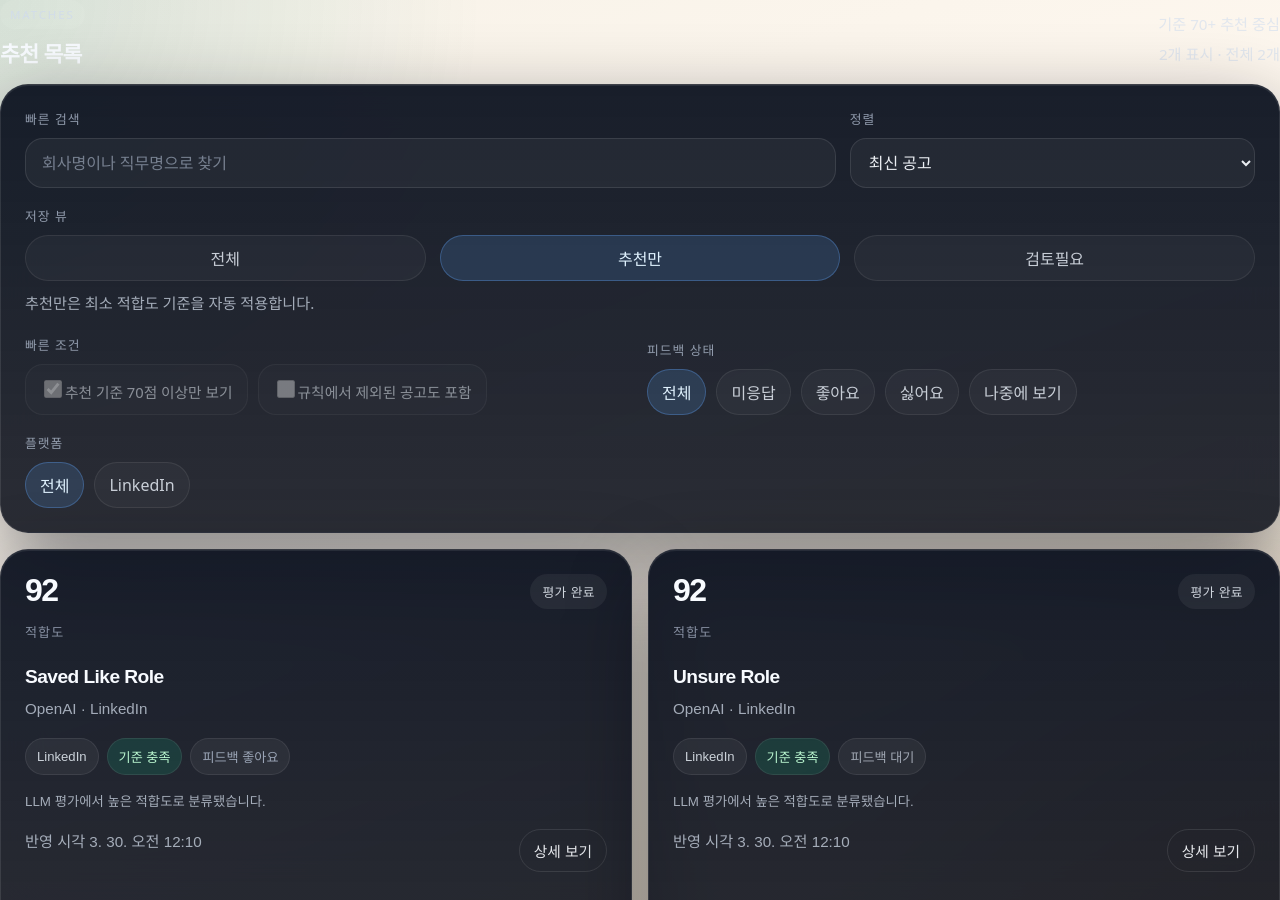
it: RecommendationBoard › updates the current filtered list immediately after saving feedback
Click the button "미응답" at (754, 392), box [716,369,791,415]
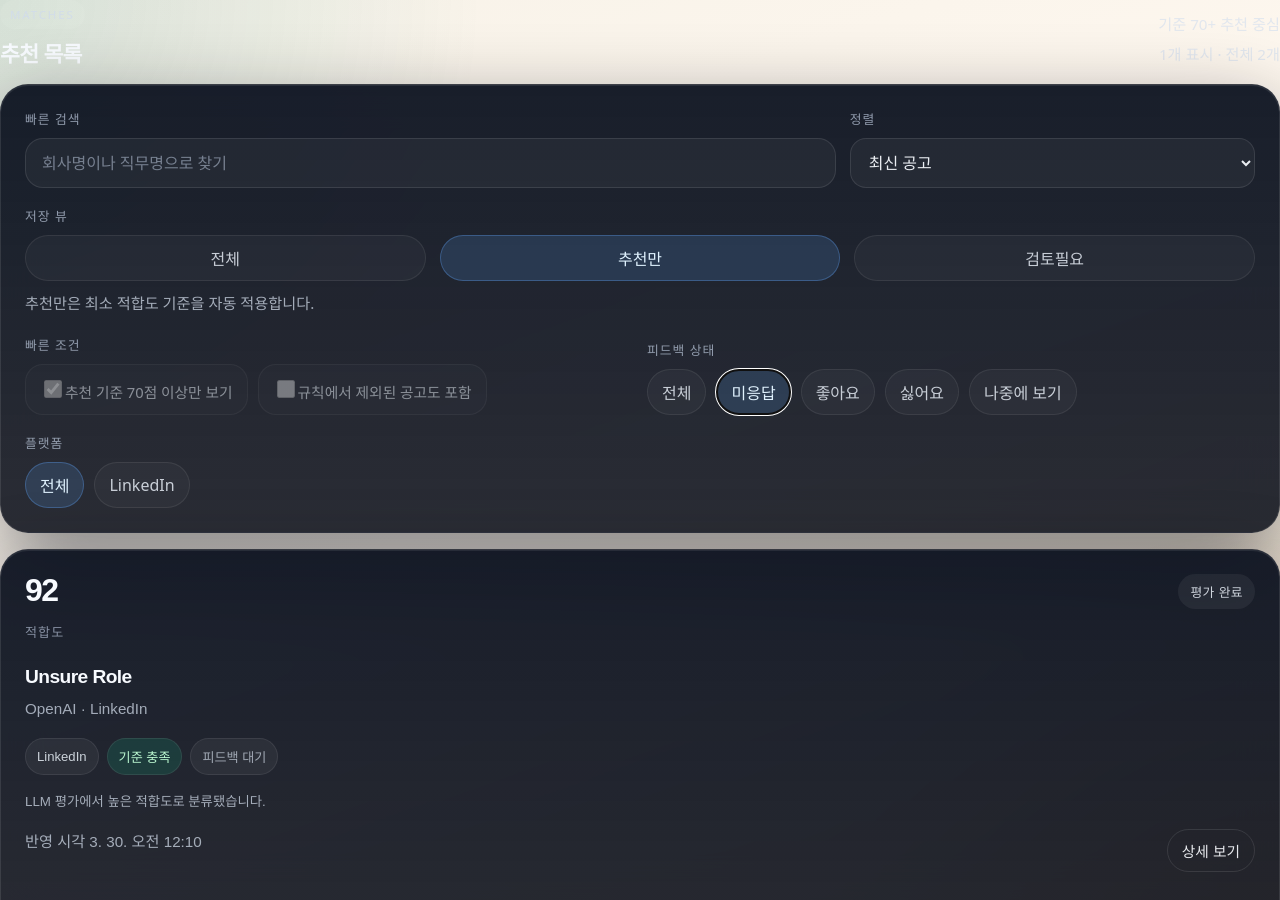
Expected: the heading "Unsure Role" is shown, [25,666,132,687]
Click the button with aria-label "Unsure Role 상세 보기" at (640, 723), box [25,574,1255,872]
(page scrolled)
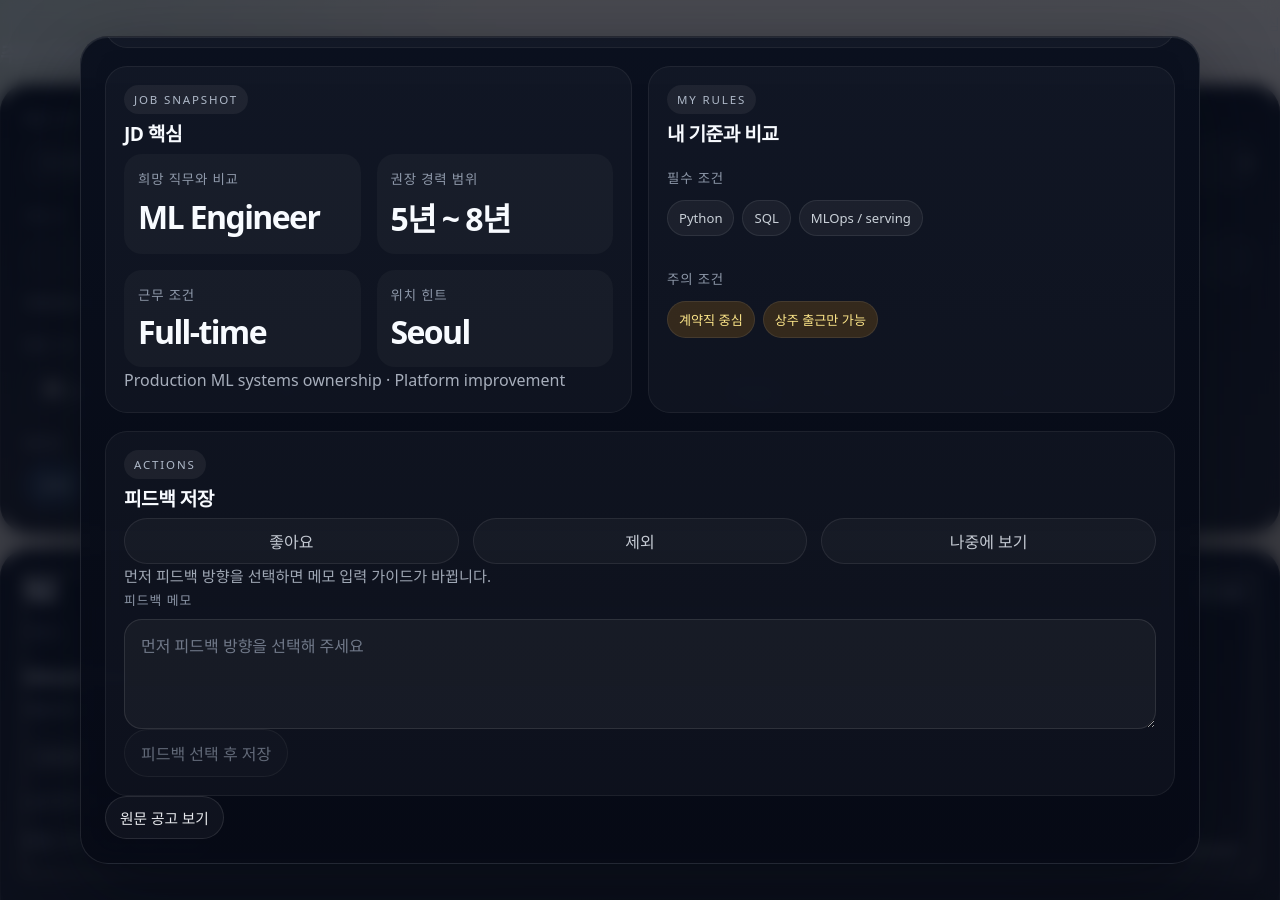
Click the button "나중에 보기" at (989, 541), box [821,518,1156,564]
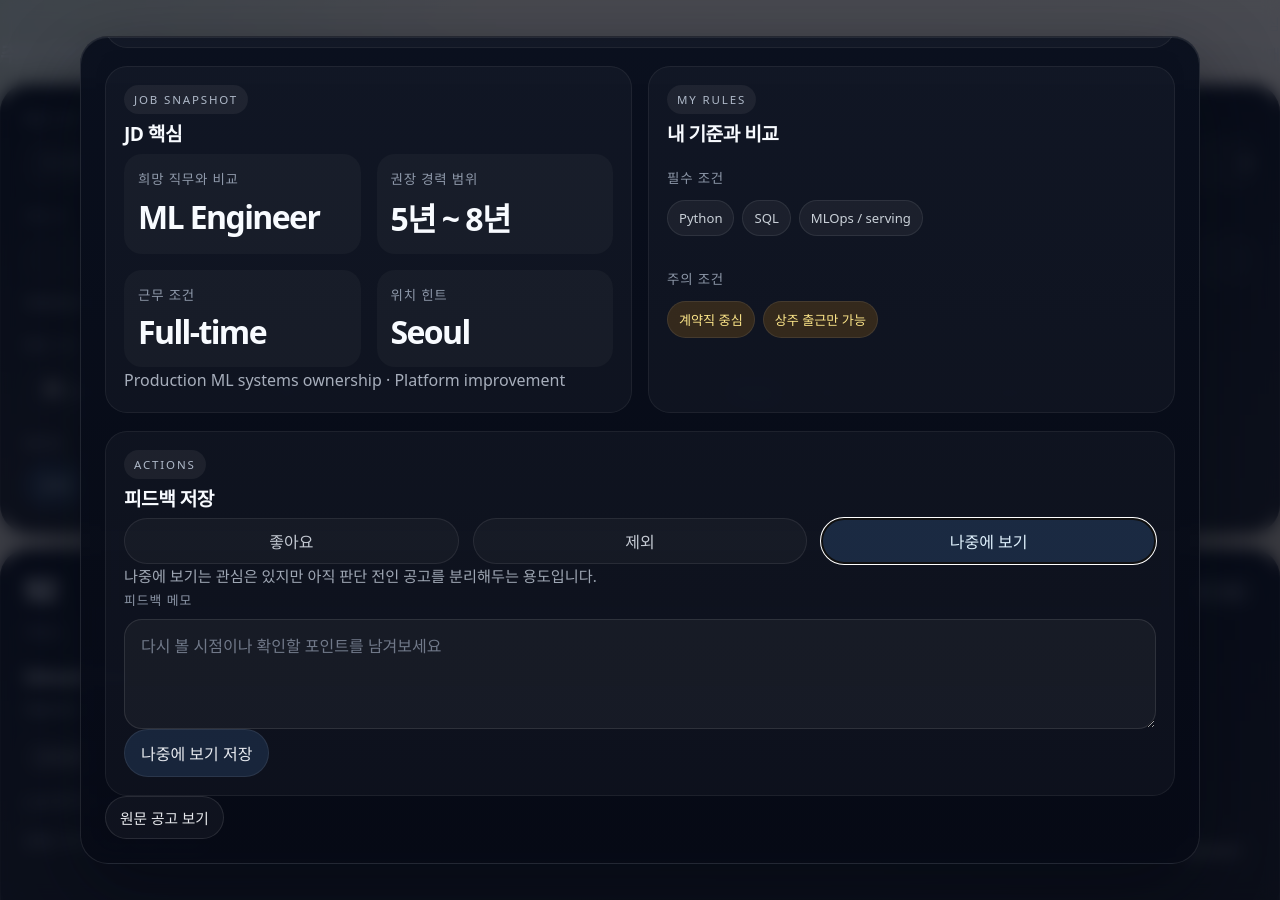
Type "follow up later" into the text box labelled "피드백 메모" at (640, 674), box [124,619,1156,729]
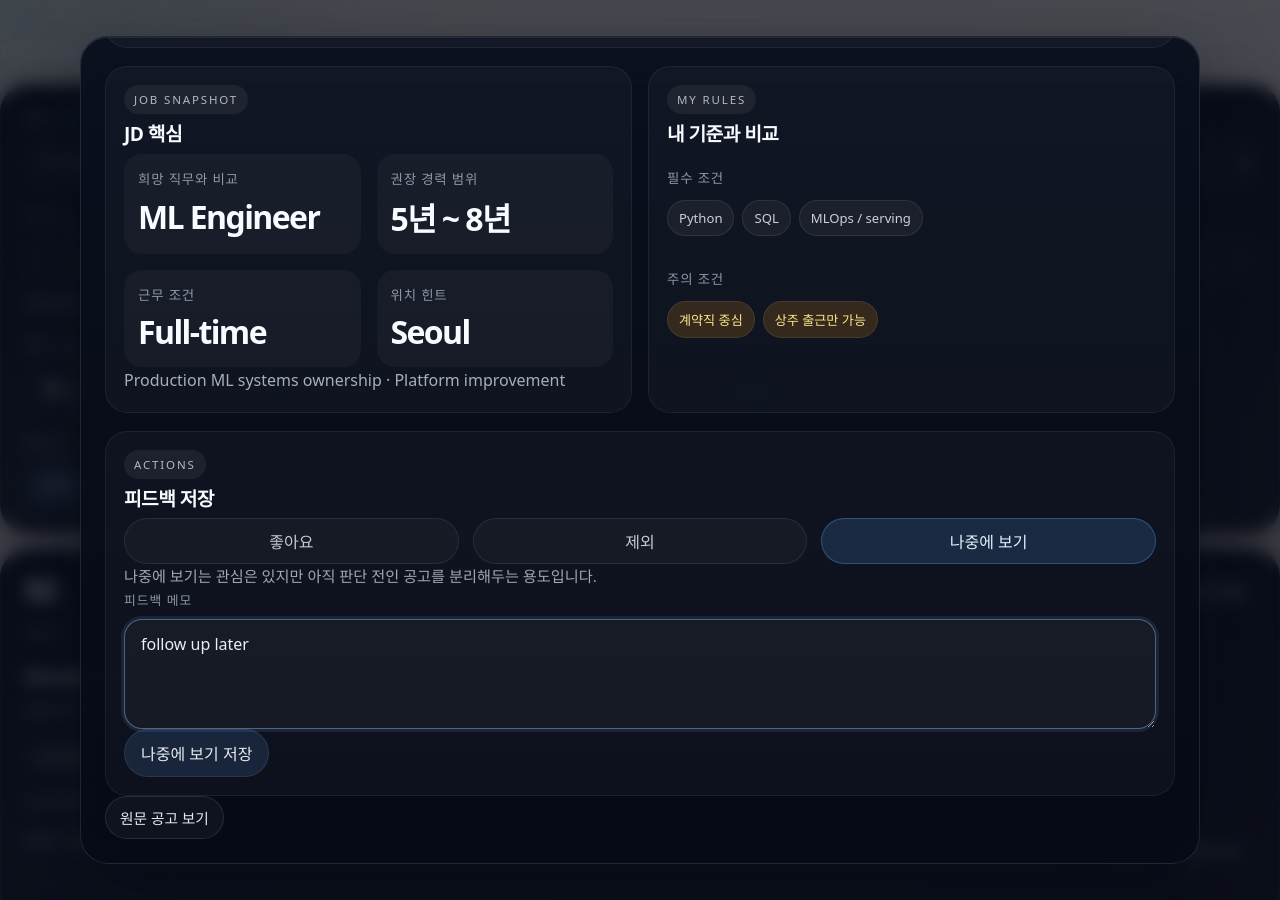
Click the button "나중에 보기 저장" at (197, 753), box [124,729,269,777]
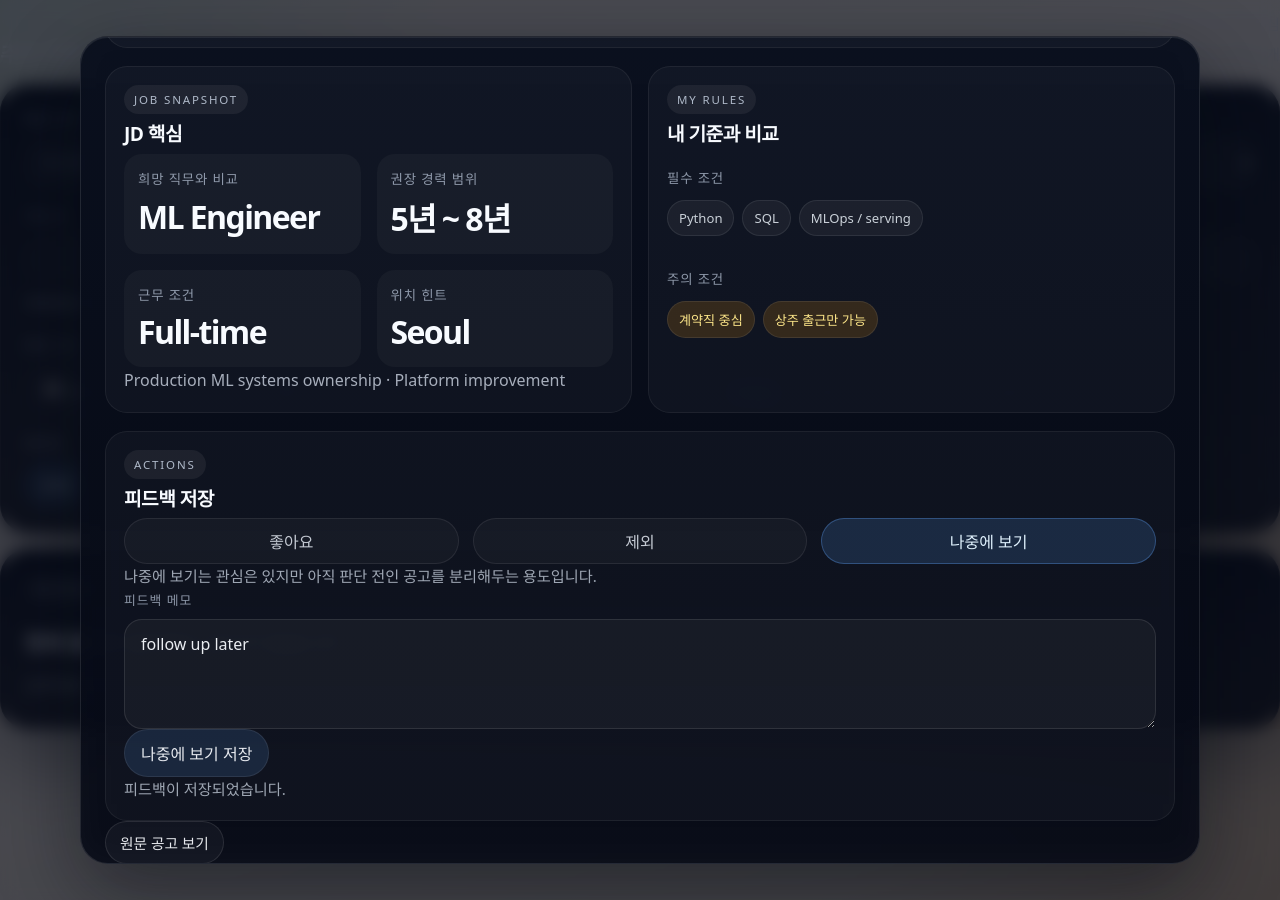
Expected: the heading "현재 필터와 일치하는 공고가 없습니다" is shown, [25,629,340,657]
